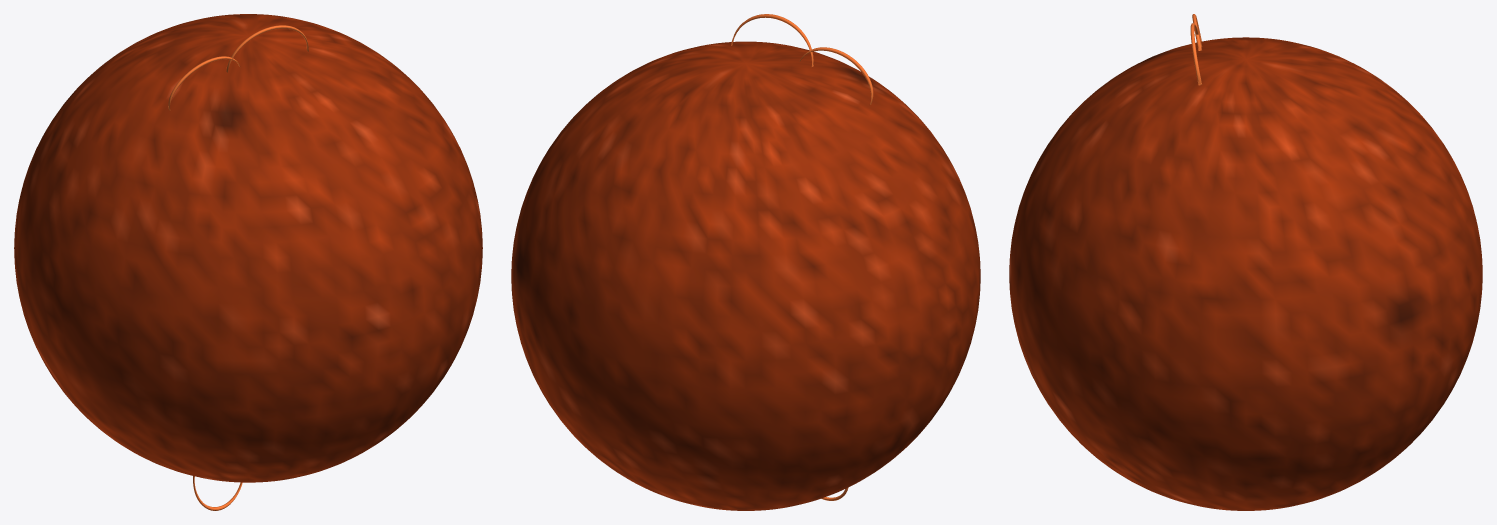
File: Star_44.fbx
3 views of the same model, side by side, from view 1: azimuth 30°, elevation 25°; view 2: azimuth 150°, elevation 25°; view 3: azimuth 270°, elevation 25° (orthographic).
Visible parts, largest first — view 1: Star_44; view 2: Star_44; view 3: Star_44.
Boxes of the visible parts, x1=… form: Star_44: x1=14, y1=14, x2=482, y2=510; Star_44: x1=511, y1=14, x2=980, y2=510; Star_44: x1=1009, y1=14, x2=1482, y2=510.
Bounding box in the file's own units: 200 × 222 × 200.
